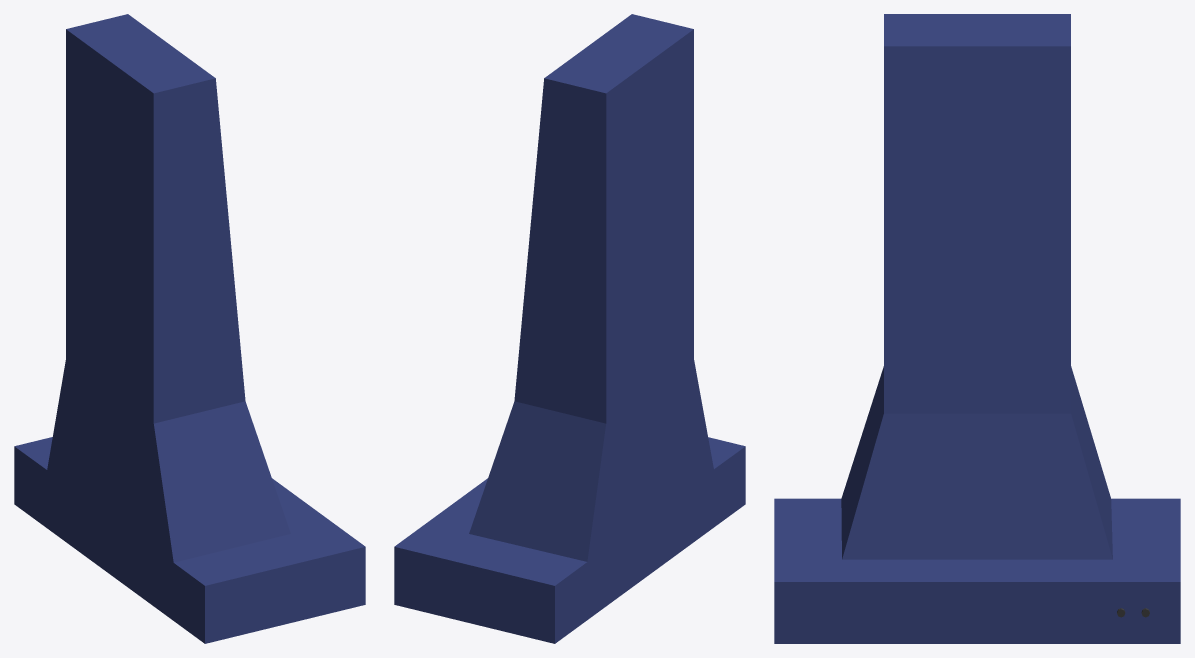
File: Kitchen_2_Hood.fbx
3 views of the same model, side by side, from view 1: azimuth 30°, elevation 25°; view 2: azimuth 150°, elevation 25°; view 3: azimuth 270°, elevation 25° (orthographic). The views are drawn at different scales.
Parts seen in each view (by area): view 1: Kitchen_2_Hood; view 2: Kitchen_2_Hood; view 3: Kitchen_2_Hood.
Boxes of the visible parts, left/top/right/bottom form: Kitchen_2_Hood: left=14, top=14, right=365, bottom=643; Kitchen_2_Hood: left=394, top=14, right=745, bottom=643; Kitchen_2_Hood: left=774, top=14, right=1180, bottom=643.
Bounding box in the file's own units: 51.99 × 156 × 105.
